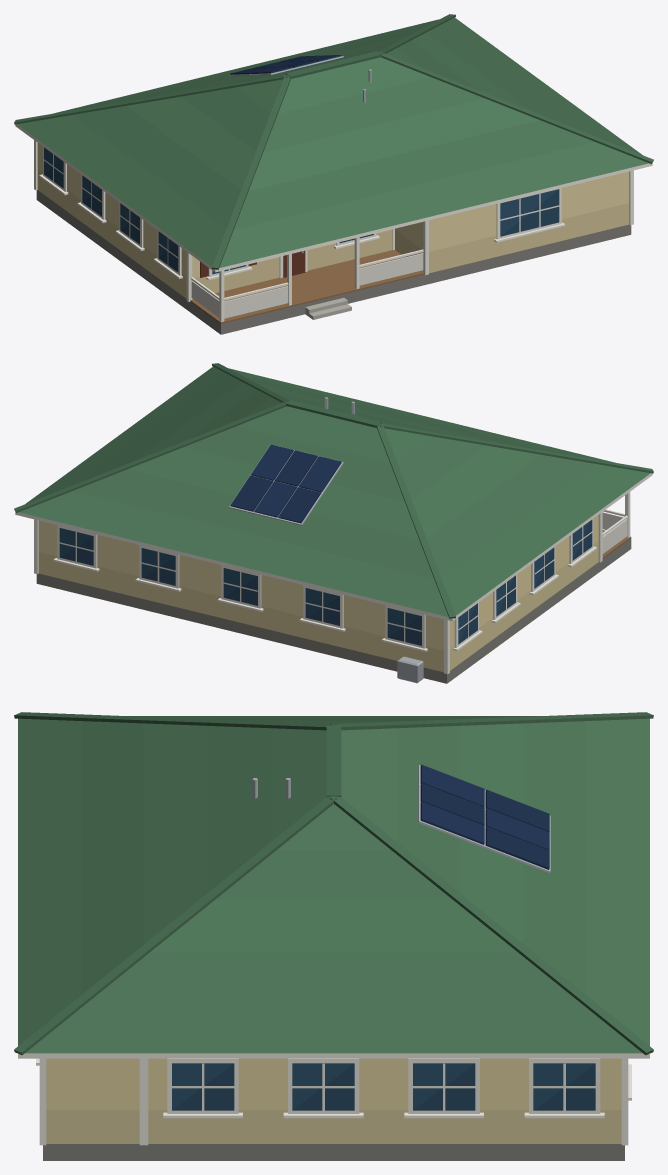
Rendered from house_18x14.glb.
3 views of the same model, one above another, from view 1: azimuth 30°, elevation 25°; view 2: azimuth 150°, elevation 25°; view 3: azimuth 270°, elevation 25° (orthographic). The views are drawn at different scales.
Parts seen in each view (by area): view 1: house; view 2: house; view 3: house.
Part boxes in pixels (<box>): house: <box>14,14,653,334</box>; house: <box>14,363,653,683</box>; house: <box>14,712,653,1160</box>.
Bounding box in the file's own units: 19.4 × 6.43 × 15.4.
